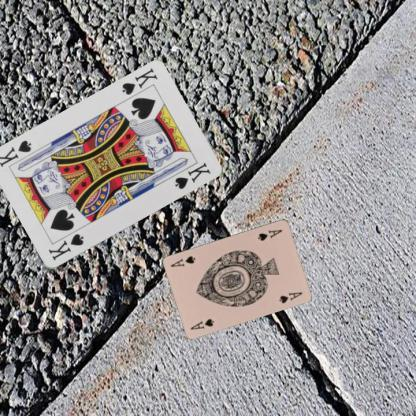As: (255, 227, 284, 242), (188, 316, 215, 331)
Ks: (119, 65, 159, 97), (45, 231, 85, 262)
